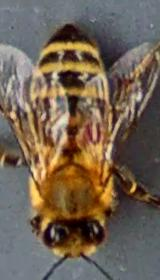varroa_mite: (73, 110, 119, 152)
